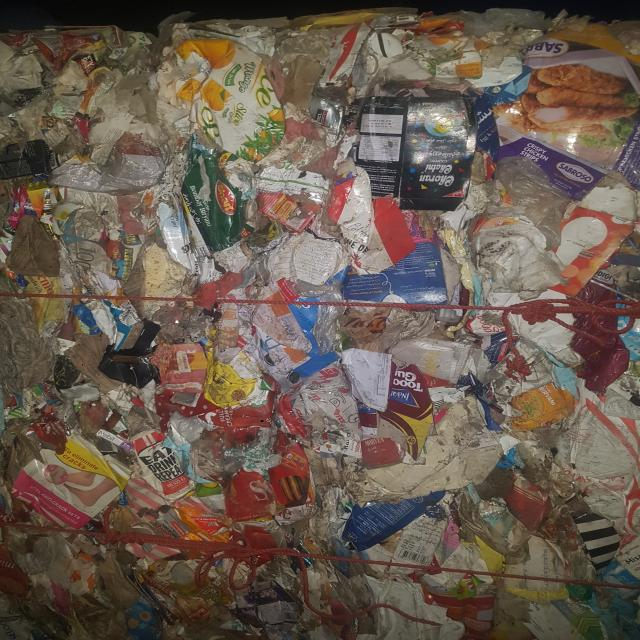electronic: (352, 93, 478, 211), (172, 37, 286, 163), (7, 437, 129, 527), (180, 134, 258, 252), (340, 239, 450, 308)
